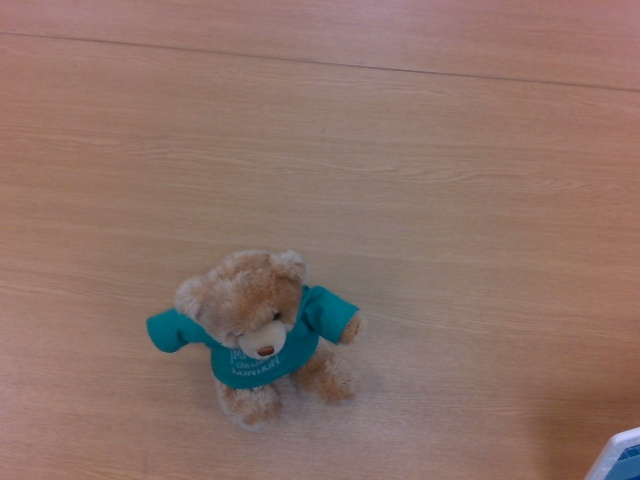teddy: (146, 249, 364, 428)
